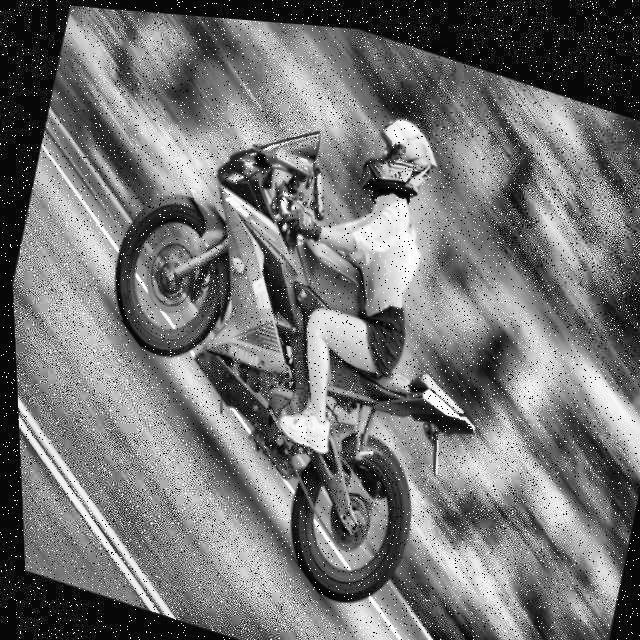Helmet: (347, 96, 448, 212)
